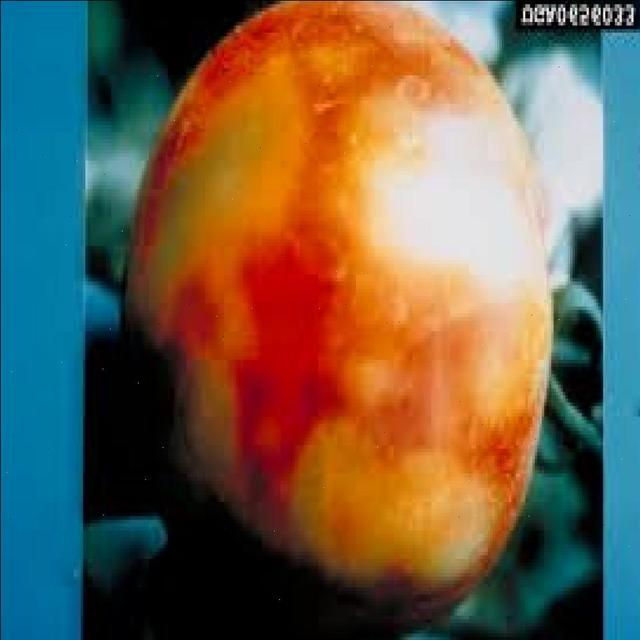Spotted wilt Virus Fruit: (116, 0, 270, 8)
